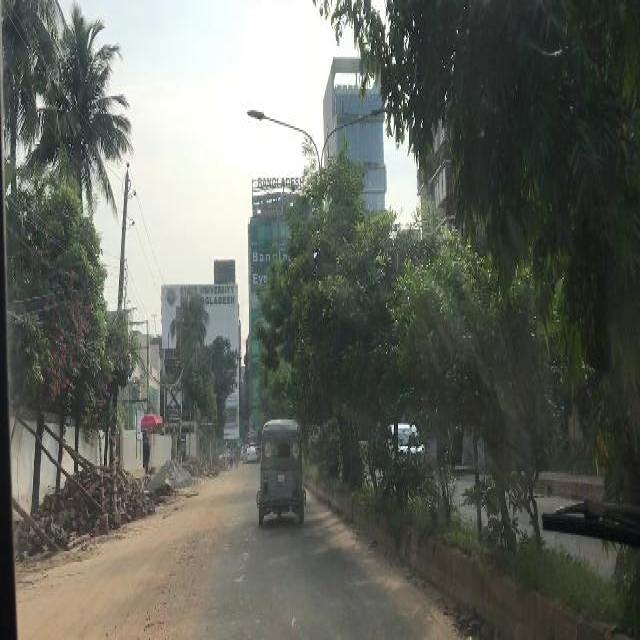car: (243, 446, 257, 461)
three wheelers -CNG-: (259, 423, 303, 523)
